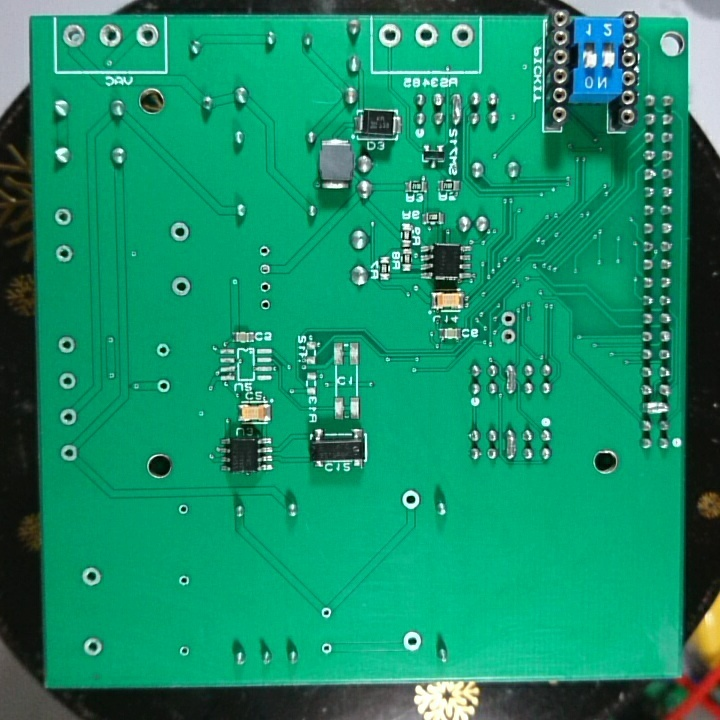F: (96, 21, 124, 54), (449, 21, 476, 53), (377, 23, 406, 51), (133, 21, 160, 51), (413, 22, 441, 50), (63, 20, 86, 52), (169, 219, 193, 246), (81, 635, 106, 660), (400, 487, 423, 514), (54, 334, 79, 358), (79, 564, 104, 588), (171, 273, 193, 300), (399, 628, 421, 655), (58, 440, 79, 468), (53, 206, 76, 229), (56, 370, 80, 392), (53, 242, 78, 263), (58, 406, 80, 429), (499, 308, 521, 329), (499, 325, 520, 347), (153, 340, 173, 361), (257, 260, 277, 279), (257, 295, 276, 315), (256, 276, 274, 296), (256, 241, 274, 260), (176, 500, 193, 520), (318, 606, 338, 623), (176, 572, 195, 589), (319, 639, 333, 660), (156, 378, 173, 395), (177, 644, 193, 658)
P: (504, 424, 519, 465), (449, 92, 465, 129), (503, 361, 519, 397), (641, 400, 673, 418)
